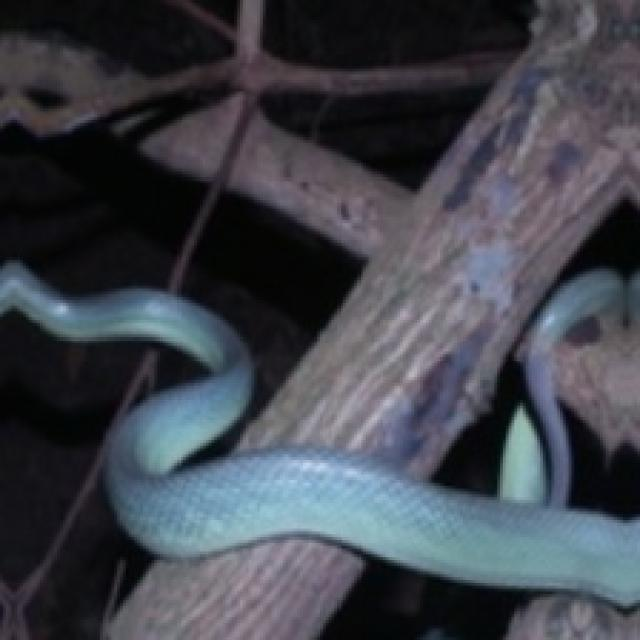red-tailed green ratsnake: (0, 263, 637, 603)
